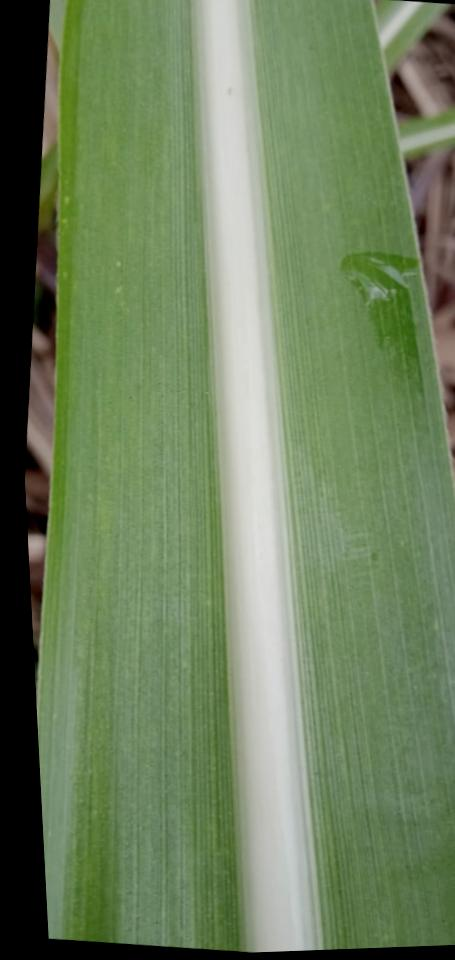Healthy: (36, 0, 455, 952), (374, 0, 455, 73), (394, 109, 455, 159)
